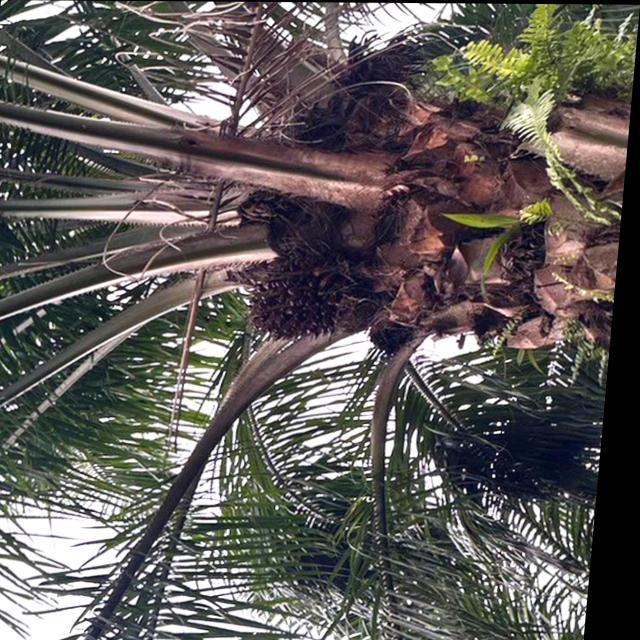ripe: (247, 241, 361, 342)
